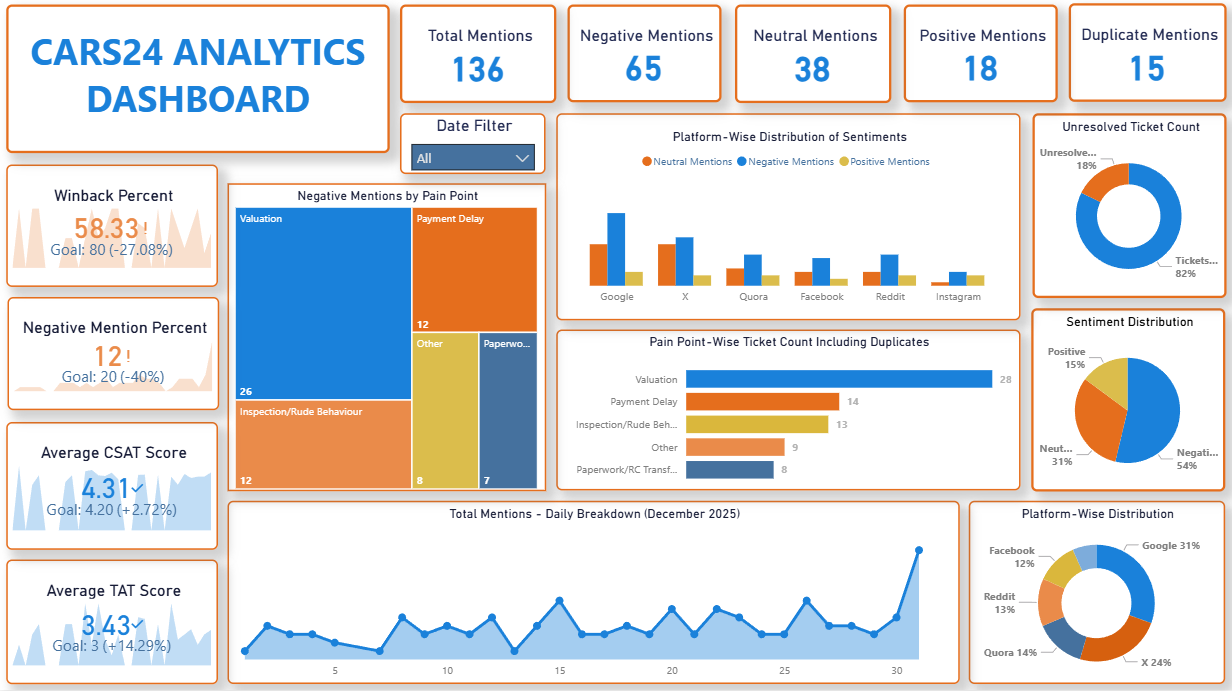

Layout of this report page (visuals, bound fields, positions):
{"tool":"powerbi","page":{"name":"Page 1","canvas":[1280,720],"ordinal":0},"visuals":[{"type":"donutChart","title":"Platform-Wise Distribution","fields":{"Category":["CARS24_Customer_Review.Platform"],"Y":["CARS24_Customer_Review.Total Unique Mentions"]},"box":[1006.8,523,266.2,190.5],"z":0},{"type":"lineChart","title":"Total Mentions - Daily Breakdown (December 2025)","fields":{"Category":["CARS24_Customer_Review.Date.Variation.Date Hierarchy.Day"],"Y":["CARS24_Customer_Review.Total Unique Mentions"]},"box":[236.5,523,760.8,190.5],"z":1000},{"type":"barChart","title":"Pain Point-Wise Ticket Count Including Duplicates","fields":{"Category":["CARS24_Customer_Review.Pain_Point_Category"],"Y":["CountNonNull(CARS24_Customer_Review.Ticket_Created)"]},"box":[578.4,345.9,482.4,167.6],"z":2000},{"type":"pieChart","title":"Sentiment Distribution","fields":{"Category":["CARS24_Customer_Review.Sentiment"],"Y":["CARS24_Customer_Review.Total Unique Mentions"]},"box":[1071.6,323,201.4,190.5],"z":3000},{"type":"clusteredColumnChart","title":"Platform-Wise Distribution of Sentiments","fields":{"Category":["CARS24_Customer_Review.Platform"],"Y":["CARS24_Customer_Review.Neutral Mentions","CARS24_Customer_Review.Negative Mentions","CARS24_Customer_Review.Positive Mentions"]},"box":[578.4,120.3,482.4,214.9],"z":4000},{"type":"donutChart","title":"Unresolved Ticket Count","fields":{"Y":["CARS24_Customer_Review.Tickets_Created","CARS24_Customer_Review.Unresolved Count"]},"box":[1073,120.3,201.4,191.9],"z":5000},{"type":"treemap","title":"Negative Mentions by Pain Point","fields":{"Group":["CARS24_Customer_Review.Pain_Point_Category"],"Values":["CARS24_Customer_Review.Negative Mentions"]},"box":[236.5,193.2,331.1,320.3],"z":6000},{"type":"kpi","title":"Winback Percent","fields":{"Indicator":["CARS24_Customer_Review.Winback_%"],"TrendLine":["CARS24_Customer_Review.Date"],"Goal":["CARS24_Customer_Review.Winback Target Hardcoded"]},"box":[6.8,174.3,220.3,127],"z":7000},{"type":"kpi","title":"Average TAT Score","fields":{"Indicator":["CARS24_Customer_Review.Avg_TAT"],"TrendLine":["CARS24_Customer_Review.Date"],"Goal":["CARS24_Customer_Review.Avg TAT Target"]},"box":[6.8,583.8,220.3,129.7],"z":8000},{"type":"kpi","title":"Average CSAT Score","fields":{"Goal":["CARS24_Customer_Review.Avg CSAT Target"],"Indicator":["CARS24_Customer_Review.Avg_CSAT"],"TrendLine":["CARS24_Customer_Review.Date"]},"box":[6.8,441.9,220.3,132.4],"z":9000},{"type":"kpi","title":"Negative Mention Percent","fields":{"Indicator":["CARS24_Customer_Review.Negative Mentions"],"TrendLine":["CARS24_Customer_Review.Date"],"Goal":["CARS24_Customer_Review.Negative % Target"]},"box":[8.1,312.2,220.3,117.6],"z":10000},{"type":"card","title":"Duplicate Mentions","fields":{"Values":["CountNonNull(CARS24_Customer_Review.Is_Duplicate)"]},"box":[1110.4,6.5,163.6,102.6],"z":11000},{"type":"card","title":"Negative Mentions","fields":{"Values":["CARS24_Customer_Review.Negative Mentions"]},"box":[589.6,7.8,159.7,101.3],"z":12000},{"type":"card","title":"Positive Mentions","fields":{"Values":["CARS24_Customer_Review.Positive Mentions"]},"box":[939,7.8,159.7,101.3],"z":13000},{"type":"card","title":"Neutral Mentions","fields":{"Values":["CARS24_Customer_Review.Neutral Mentions"]},"box":[763.6,7.8,162.3,102.6],"z":14000},{"type":"textbox","box":[6.8,8.1,398.6,154.1],"z":15000},{"type":"card","title":"Total Mentions","fields":{"Values":["CountNonNull(CARS24_Customer_Review.Mention_ID)"]},"box":[416.2,8.1,162.2,102.7],"z":16000},{"type":"slicer","title":"Date Filter","fields":{"Values":["CARS24_Customer_Review.Date"]},"box":[416.2,120.3,151.4,63.5],"z":17000}]}

Visuals, with their boxes in screenshot pixels (x1, y1, x2, y2), scaled from the page's 1280x720 canvas onto the 1232x691 screenshot:
"Platform-Wise Distribution" donutChart: region(969, 502, 1225, 685)
"Total Mentions - Daily Breakdown (December 2025)" lineChart: region(228, 502, 960, 685)
"Pain Point-Wise Ticket Count Including Duplicates" barChart: region(557, 332, 1021, 493)
"Sentiment Distribution" pieChart: region(1031, 310, 1225, 493)
"Platform-Wise Distribution of Sentiments" clusteredColumnChart: region(557, 115, 1021, 322)
"Unresolved Ticket Count" donutChart: region(1033, 115, 1227, 300)
"Negative Mentions by Pain Point" treemap: region(228, 185, 546, 493)
"Winback Percent" kpi: region(7, 167, 219, 289)
"Average TAT Score" kpi: region(7, 560, 219, 685)
"Average CSAT Score" kpi: region(7, 424, 219, 551)
"Negative Mention Percent" kpi: region(8, 300, 220, 412)
"Duplicate Mentions" card: region(1069, 6, 1226, 105)
"Negative Mentions" card: region(567, 7, 721, 105)
"Positive Mentions" card: region(904, 7, 1057, 105)
"Neutral Mentions" card: region(735, 7, 891, 106)
textbox: region(7, 8, 390, 156)
"Total Mentions" card: region(401, 8, 557, 106)
"Date Filter" slicer: region(401, 115, 546, 176)
